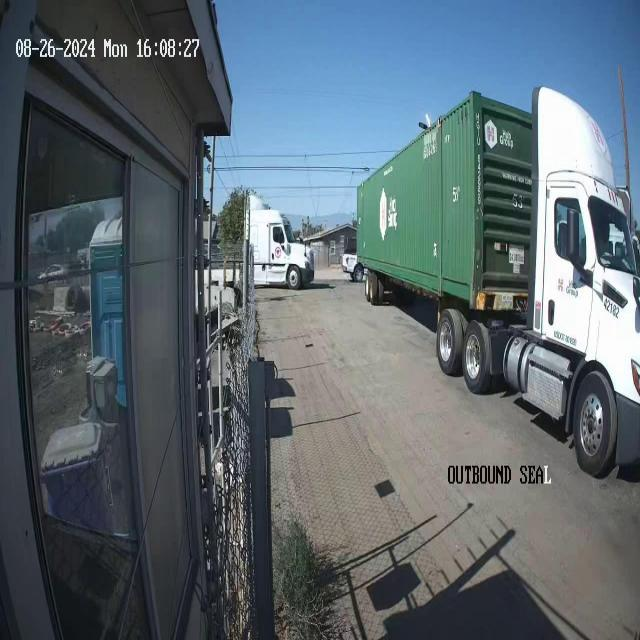TRUCK_IN: (355, 80, 639, 478)
